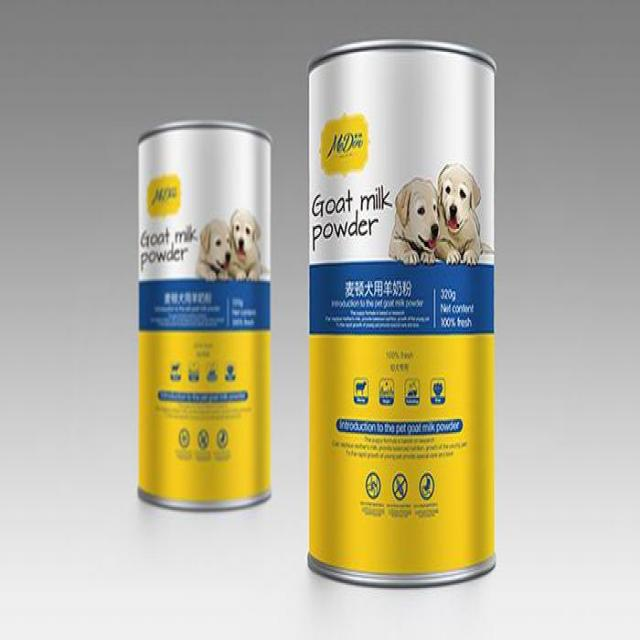metel: (297, 27, 519, 607), (122, 104, 290, 520)
